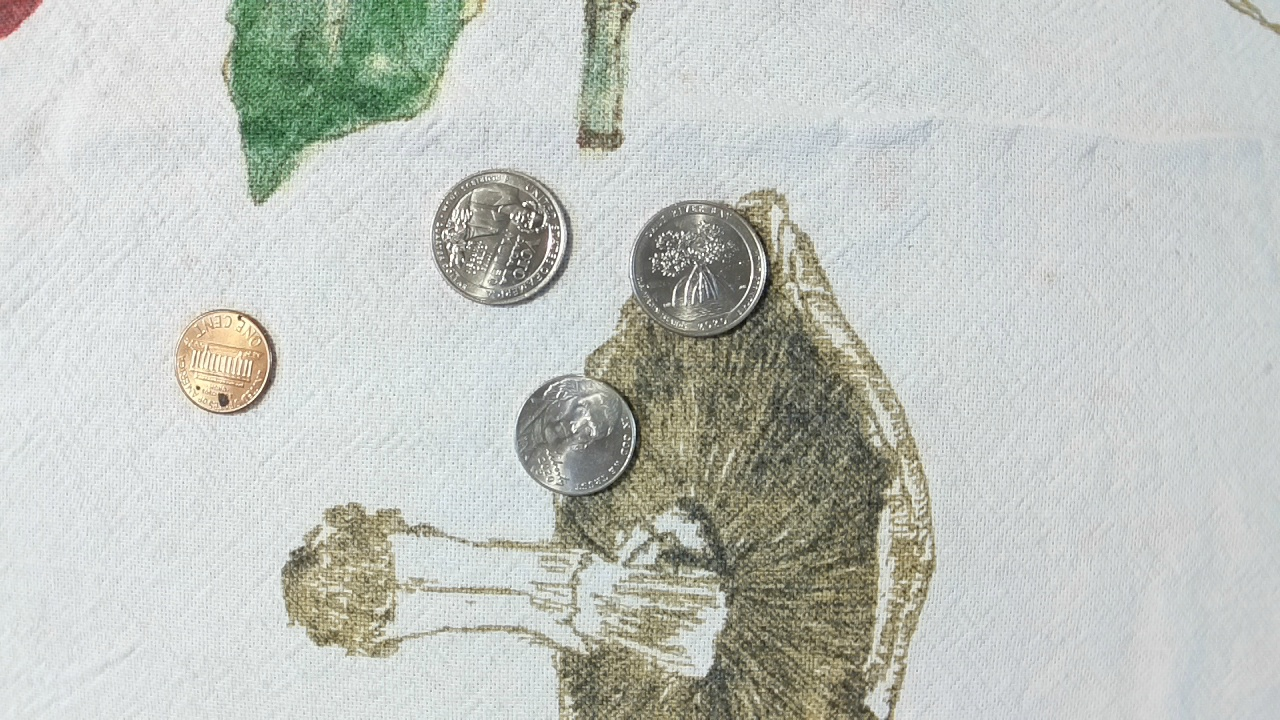nickel: (510, 372, 642, 500)
penny: (170, 304, 278, 418)
quarter: (428, 166, 574, 308), (626, 196, 768, 338)
